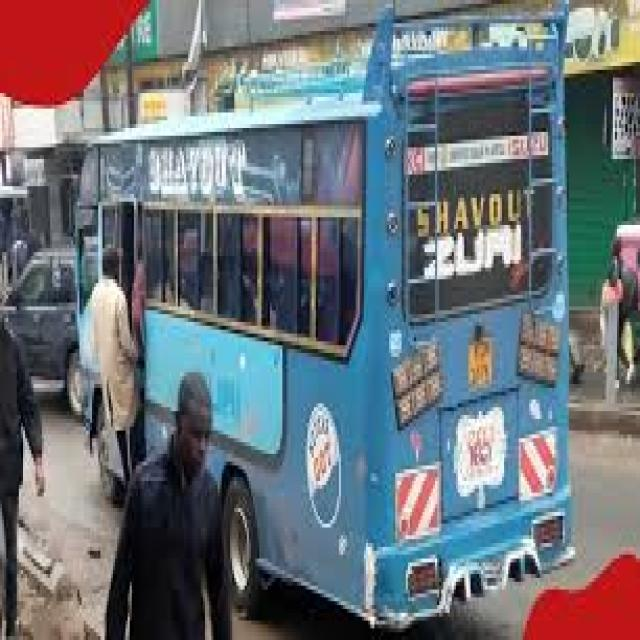bus: (53, 7, 588, 634)
